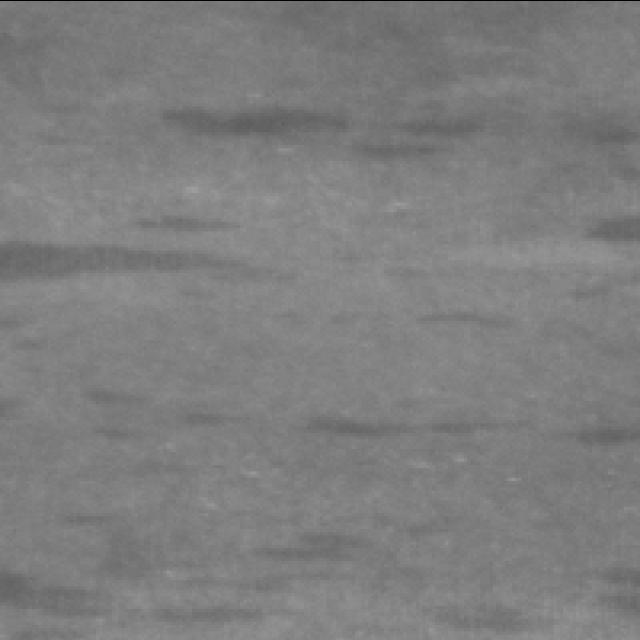inclusion: (6, 514, 376, 626), (150, 100, 382, 150), (2, 240, 245, 286), (310, 406, 542, 447), (84, 384, 234, 438), (566, 201, 640, 273)
